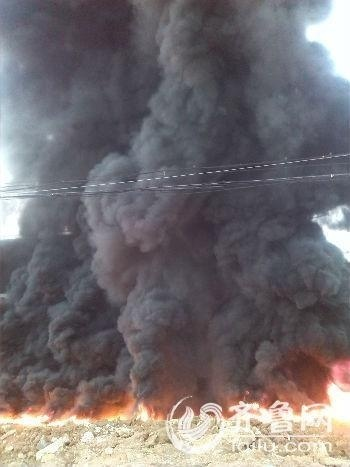fire: (2, 397, 158, 428)
